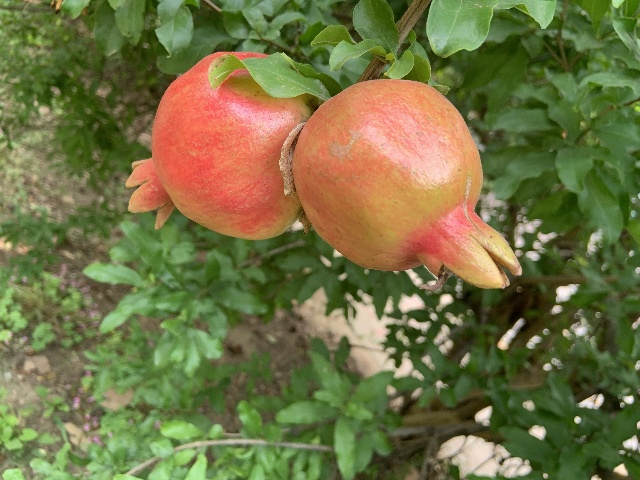ripe: (293, 77, 520, 291), (125, 51, 319, 240)
